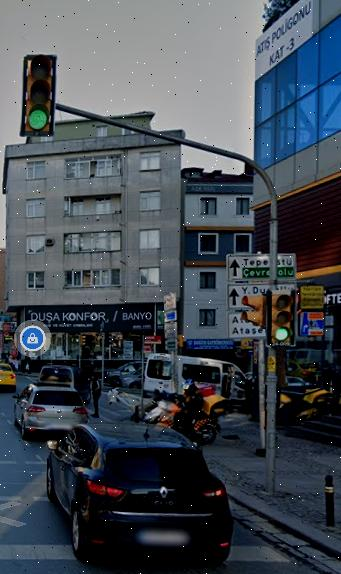greenlight: (20, 53, 56, 137), (271, 288, 294, 347)
